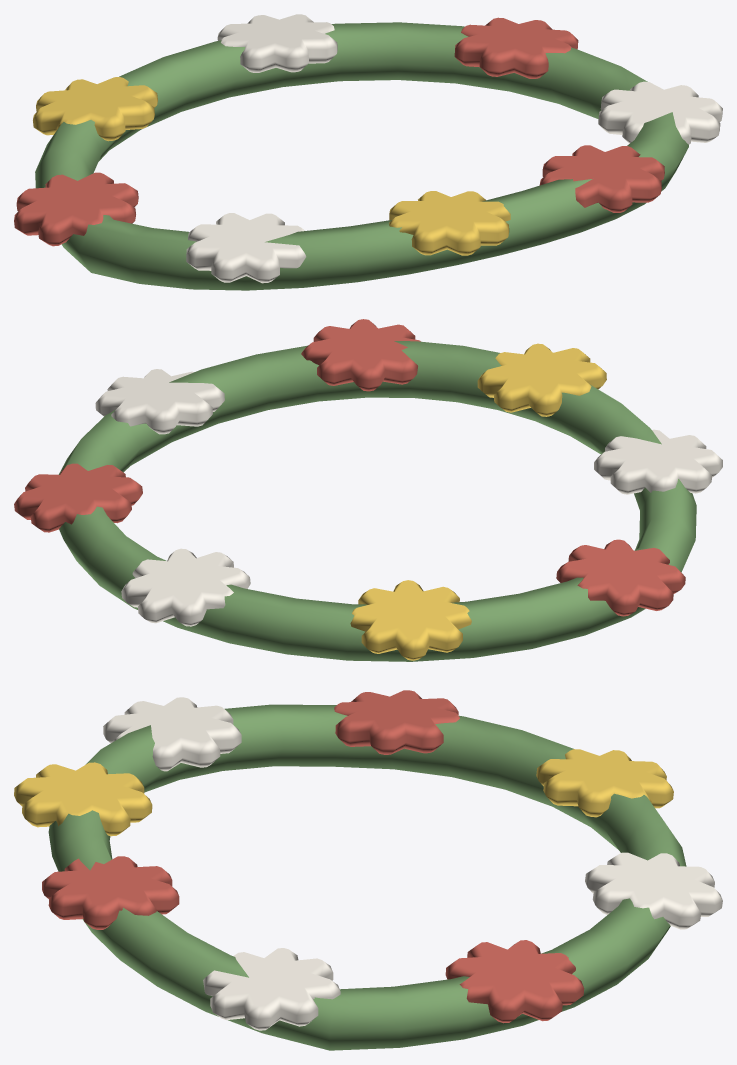
The model's file is cosmos_crown.glb.
3 renders of one model, top to bottom at view 1: azimuth 30°, elevation 25°; view 2: azimuth 150°, elevation 25°; view 3: azimuth 270°, elevation 25°, orthographic. The views are drawn at different scales.
Parts seen in each view (by area): view 1: cosmos_crown_Head; view 2: cosmos_crown_Head; view 3: cosmos_crown_Head.
Part boxes in pixels (x1=…): cosmos_crown_Head: x1=14, y1=14, x2=722, y2=290; cosmos_crown_Head: x1=14, y1=319, x2=722, y2=661; cosmos_crown_Head: x1=14, y1=690, x2=722, y2=1050.
Size of the model in its own units: 0.5605 by 0.0755 by 0.5041.
